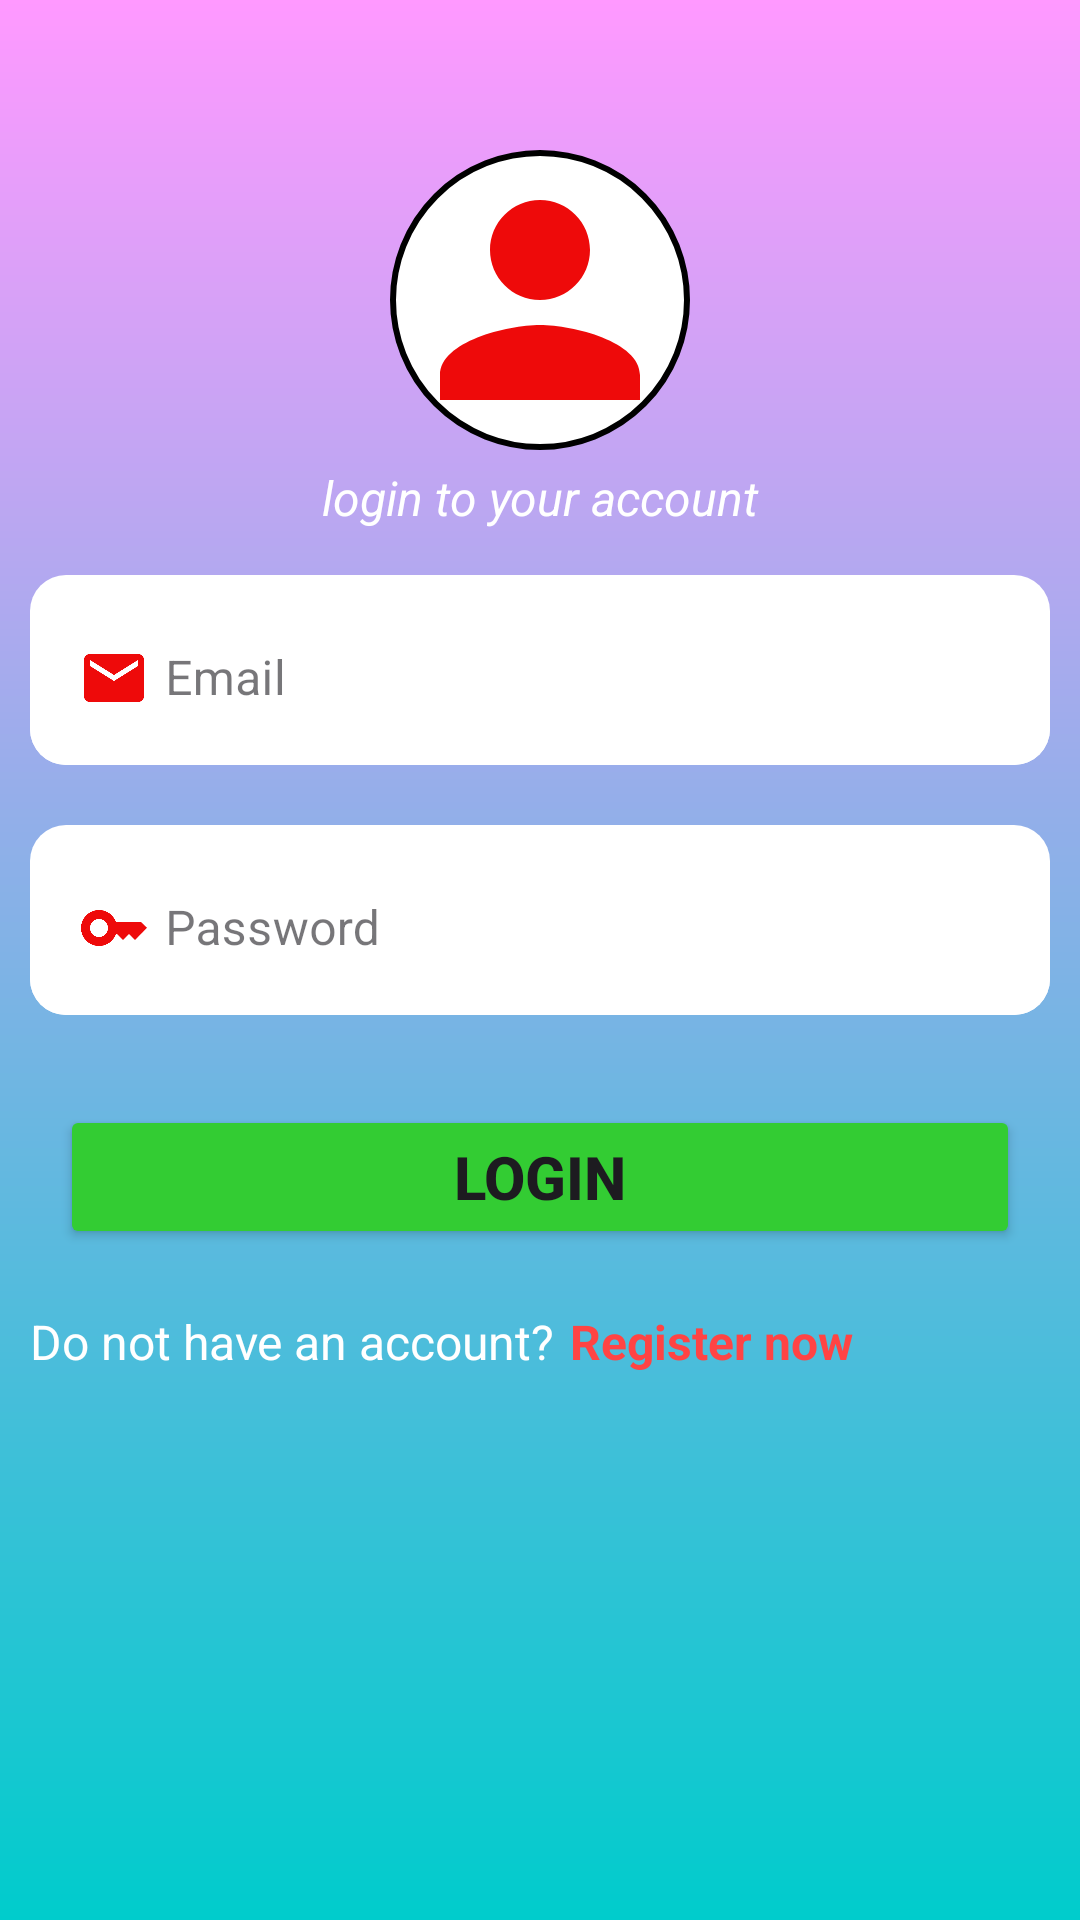

Named icons in this screenshot (1080px×1920px) and their centers, (x,y):
person: (540,300)
